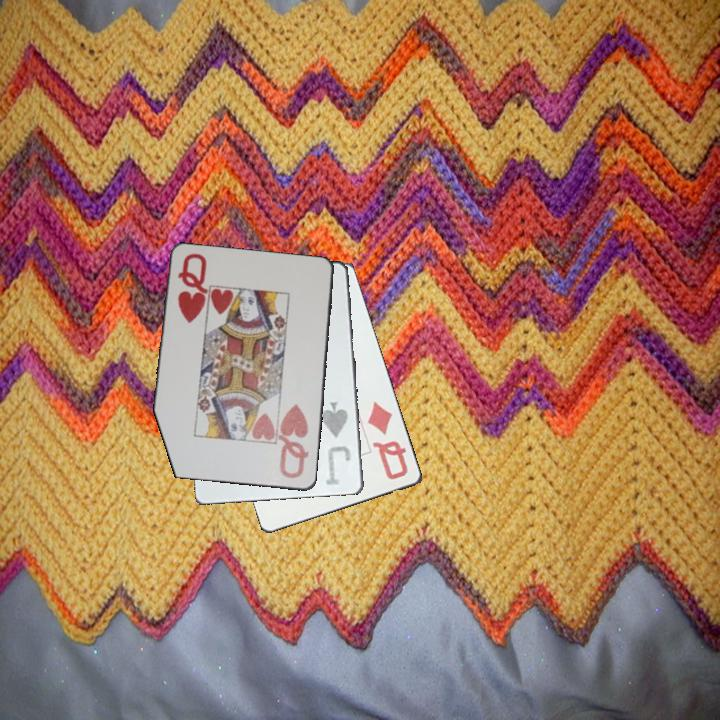Js: (318, 399, 355, 490)
Qd: (364, 398, 411, 483)
Qh: (276, 401, 312, 482), (174, 250, 210, 326)
